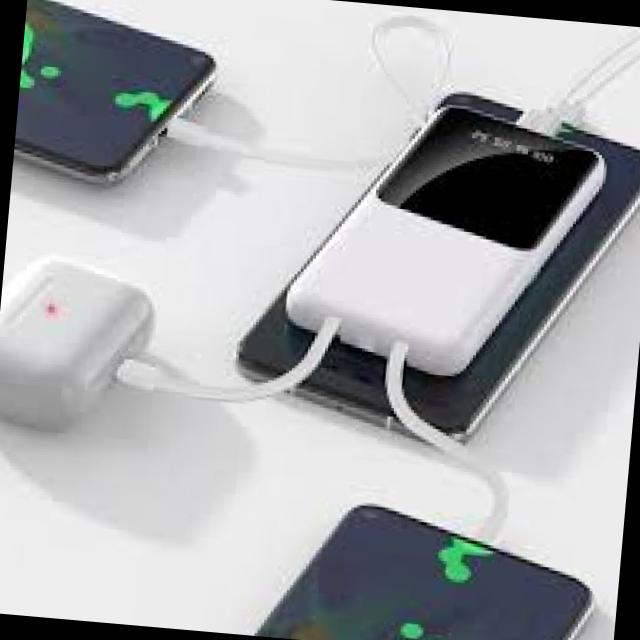portable-charger: (276, 84, 614, 398)
